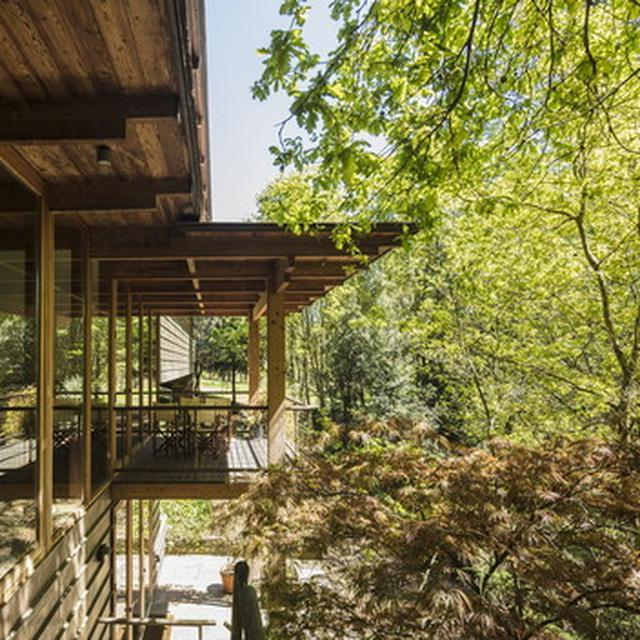building: (0, 0, 425, 489)
